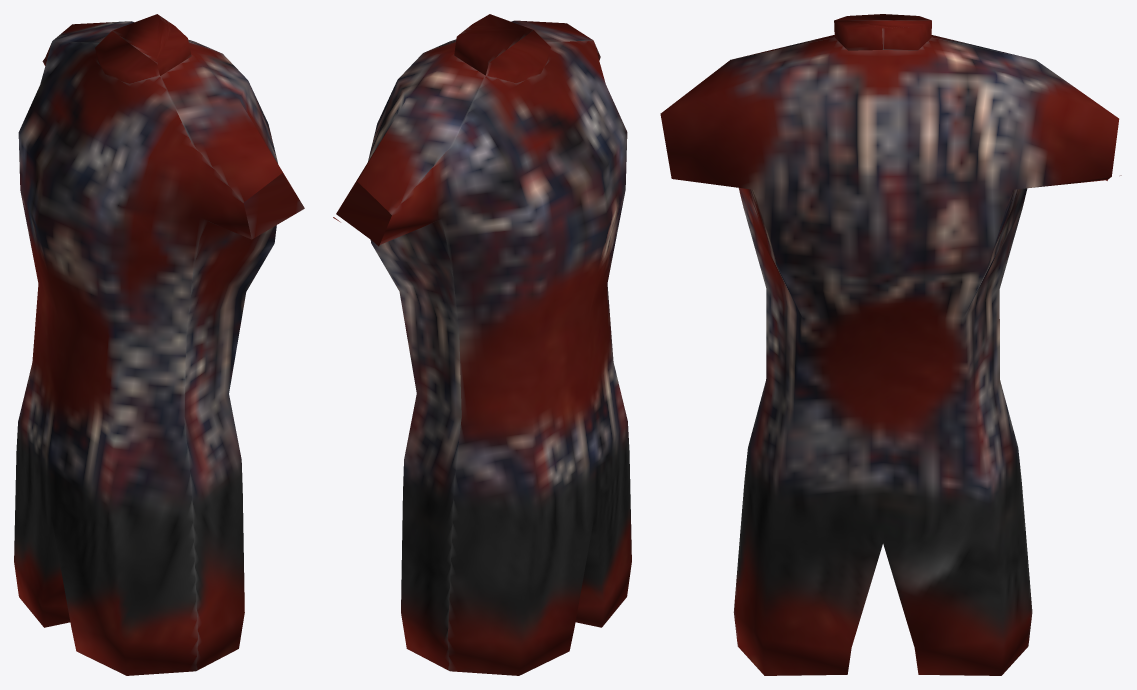
File: Torso.fbx
3 renders of one model, left to right at view 1: azimuth 30°, elevation 25°; view 2: azimuth 150°, elevation 25°; view 3: azimuth 270°, elevation 25°, orthographic. The views are drawn at different scales.
Parts seen in each view (by area): view 1: Cube.026; view 2: Cube.026; view 3: Cube.026.
Boxes of the visible parts, box(x1,y1,x2,y2) form: Cube.026: box(14, 14, 304, 675); Cube.026: box(333, 14, 631, 675); Cube.026: box(660, 14, 1121, 675).
Size of the model in its own units: 186 by 488 by 319.
